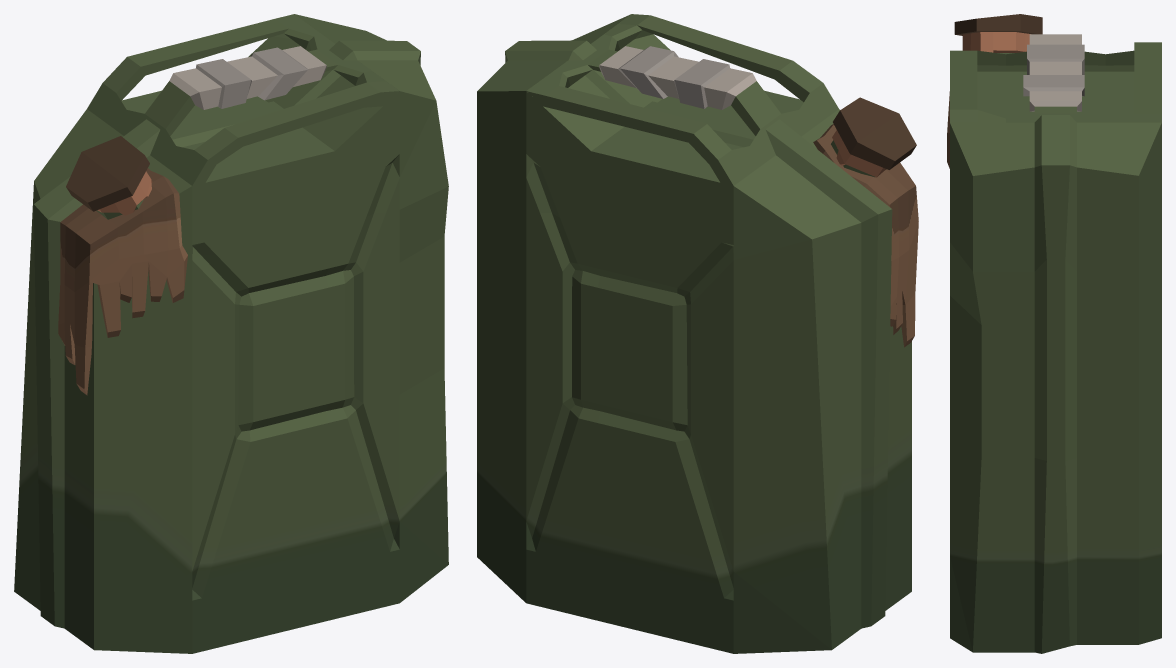
File: SM_Canister_B.fbx
3 renders of one model, left to right at view 1: azimuth 30°, elevation 25°; view 2: azimuth 150°, elevation 25°; view 3: azimuth 270°, elevation 25°, orthographic.
Parts seen in each view (by area): view 1: SM_Canister_B; view 2: SM_Canister_B; view 3: SM_Canister_B.
Boxes of the visible parts, box(x1,y1,x2,y2) form: SM_Canister_B: box(14, 14, 448, 653); SM_Canister_B: box(477, 14, 918, 653); SM_Canister_B: box(947, 14, 1161, 653).
Size of the model in its own units: 41.82 by 56.01 by 20.7.
